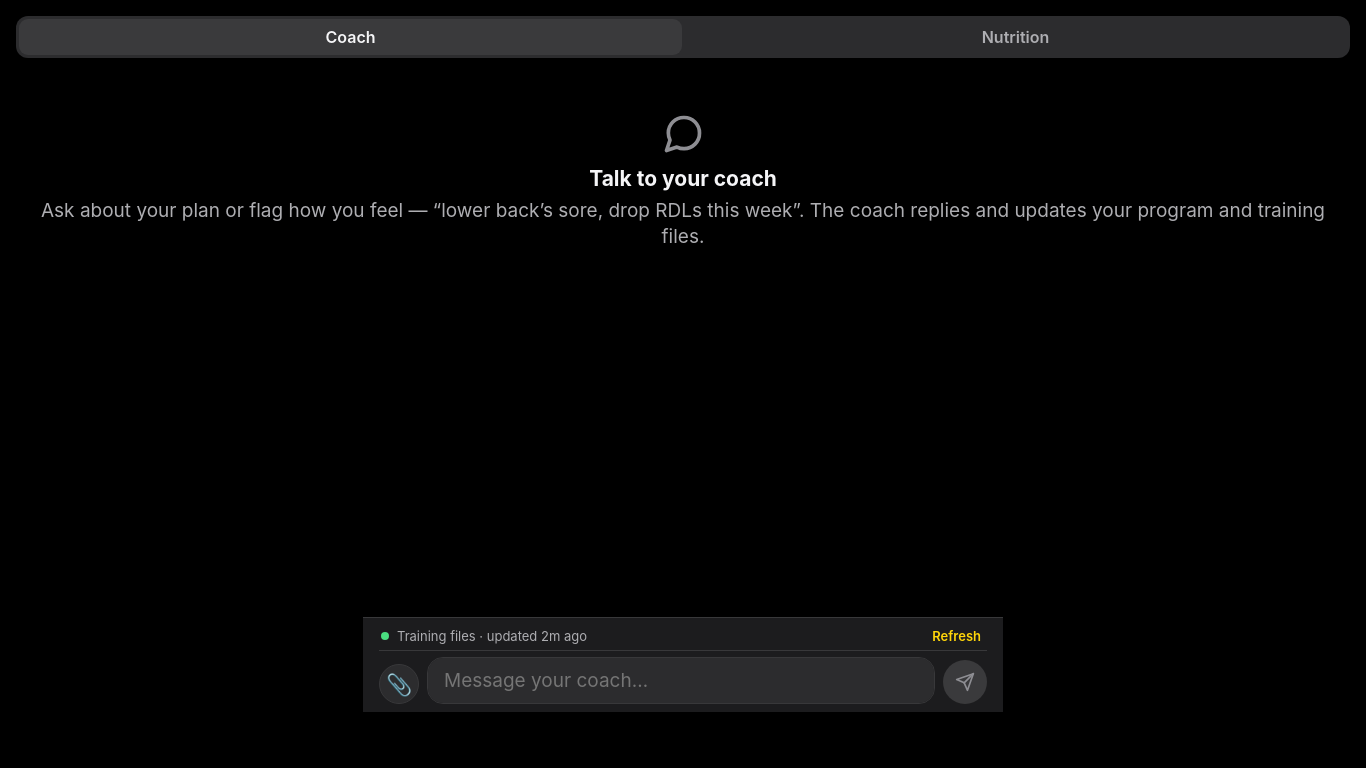
CoachPane — background context refresh › says so when a refresh actually picked up new file content
Expected: the text "Training files · updated 2m ago" is shown, [397, 628, 587, 644]
Click the button with aria-label "Refresh training files" at (957, 636), box [928, 626, 985, 646]
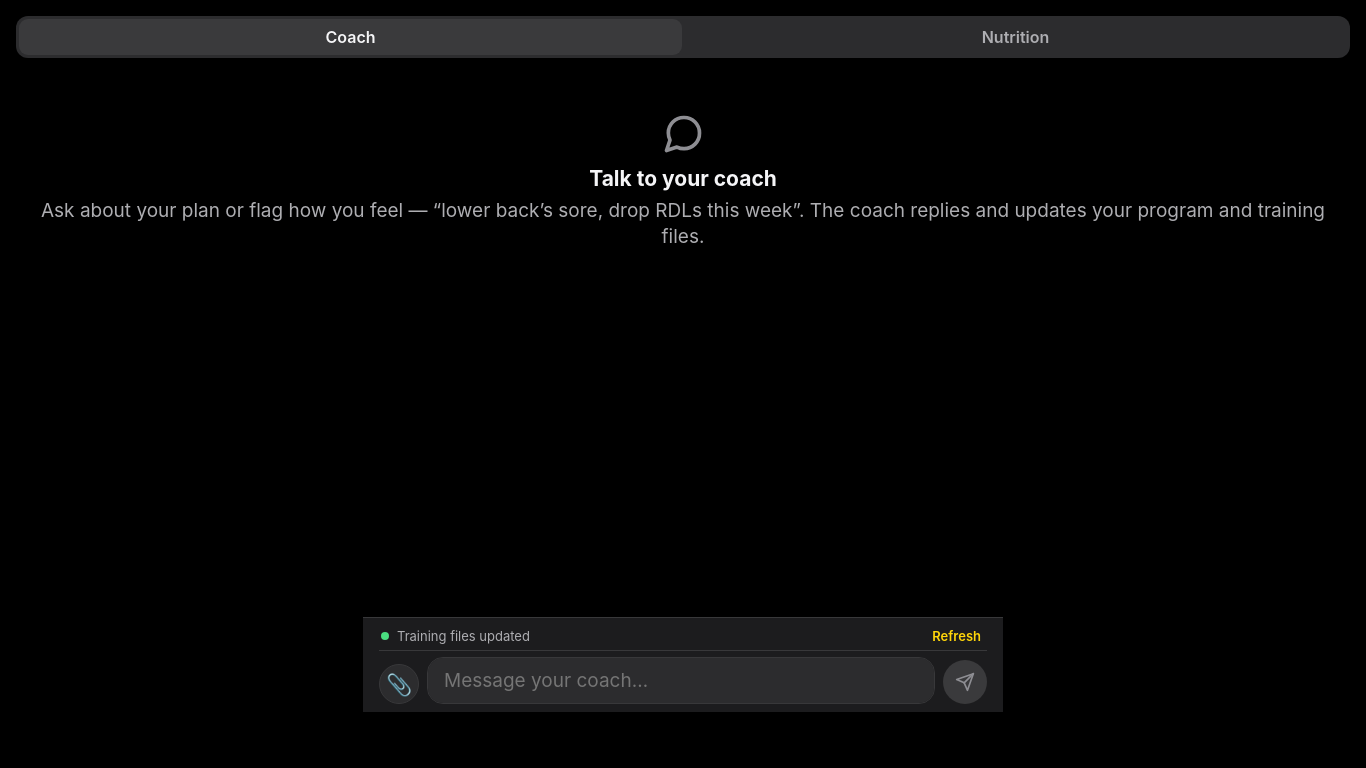
Result: the text "Training files updated" is shown at [397, 628, 530, 644]
